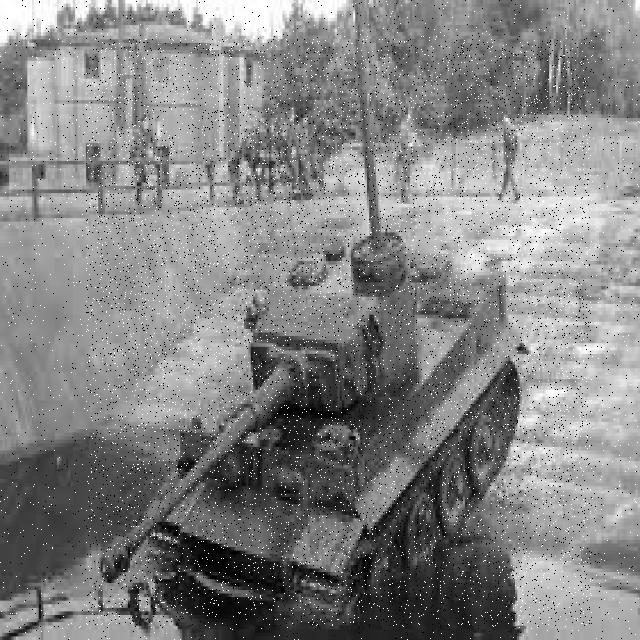MIL_MBT: (86, 39, 592, 626)
